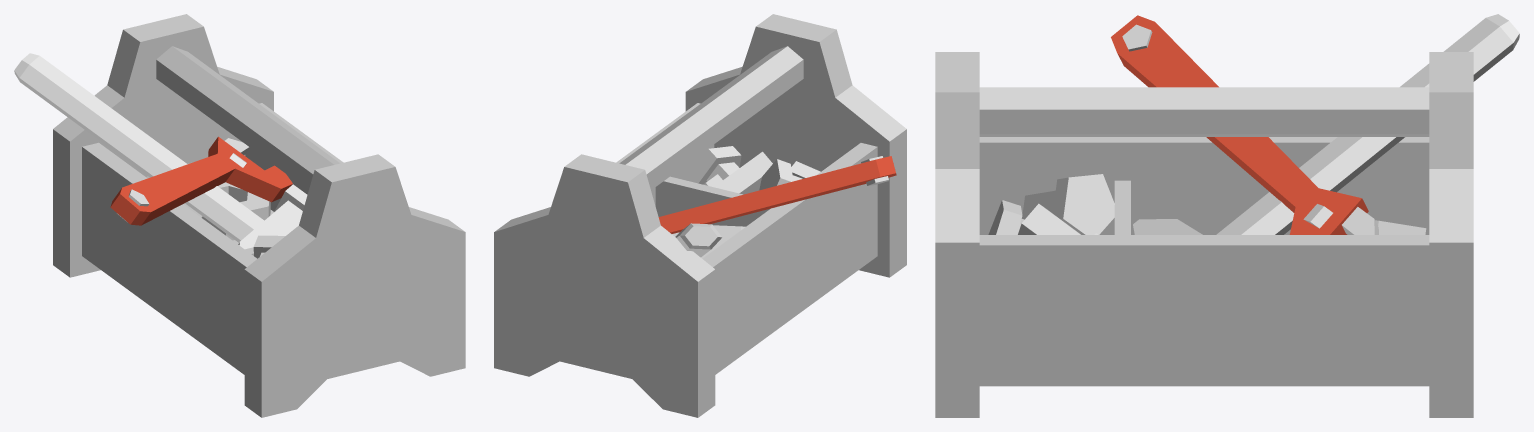
The model's file is tools_element.fbx.
3 renders of one model, left to right at view 1: azimuth 30°, elevation 25°; view 2: azimuth 150°, elevation 25°; view 3: azimuth 270°, elevation 25°, orthographic. The views are drawn at different scales.
Visible parts, largest first — view 1: tools_element; view 2: tools_element; view 3: tools_element.
Part boxes in pixels (bbox=[...]): tools_element: bbox=[14, 14, 465, 417]; tools_element: bbox=[494, 14, 906, 417]; tools_element: bbox=[935, 14, 1519, 417].
Size of the model in its own units: 269 by 205 by 385.
